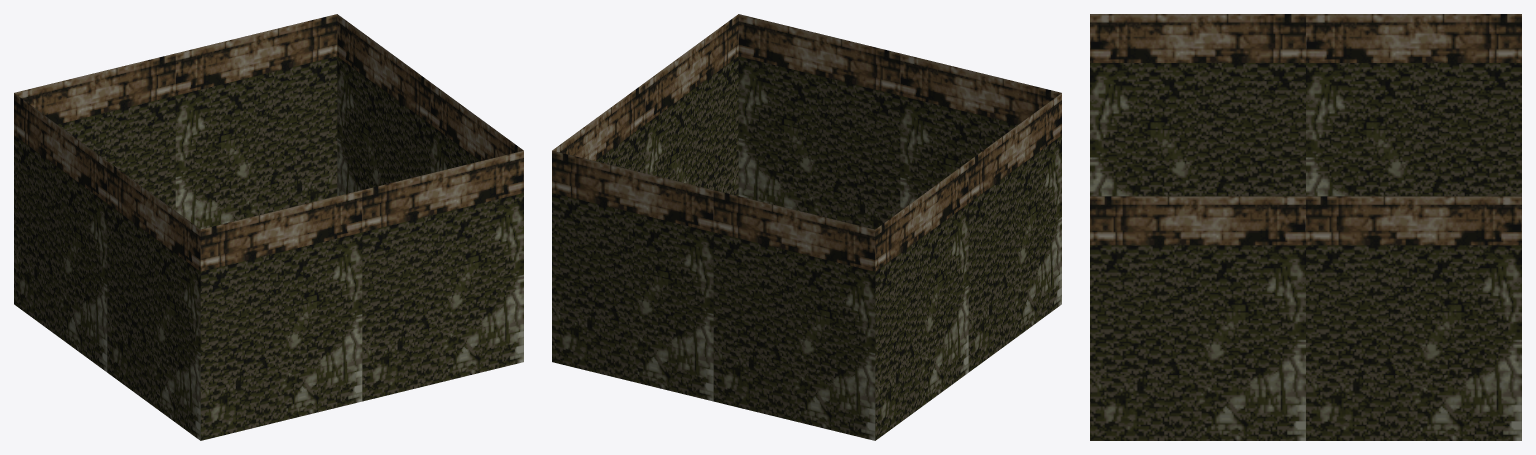
Rendered from MAP161.obj.
3 views of the same model, side by side, from view 1: azimuth 30°, elevation 25°; view 2: azimuth 150°, elevation 25°; view 3: azimuth 270°, elevation 25° (orthographic). The views are drawn at different scales.
Visible parts, largest first — view 1: mesh_4, mesh_3; view 2: mesh_4, mesh_3; view 3: mesh_4, mesh_3.
Boxes of the visible parts, x1=… form: mesh_4: x1=14, y1=56, x2=523, y2=440; mesh_3: x1=14, y1=14, x2=523, y2=271; mesh_4: x1=552, y1=56, x2=1061, y2=440; mesh_3: x1=552, y1=14, x2=1061, y2=271; mesh_4: x1=1090, y1=63, x2=1521, y2=440; mesh_3: x1=1090, y1=14, x2=1521, y2=245.
Size of the model in its own units: 102 by 64 by 102.
Materials: 5 (5 with a texture image).
